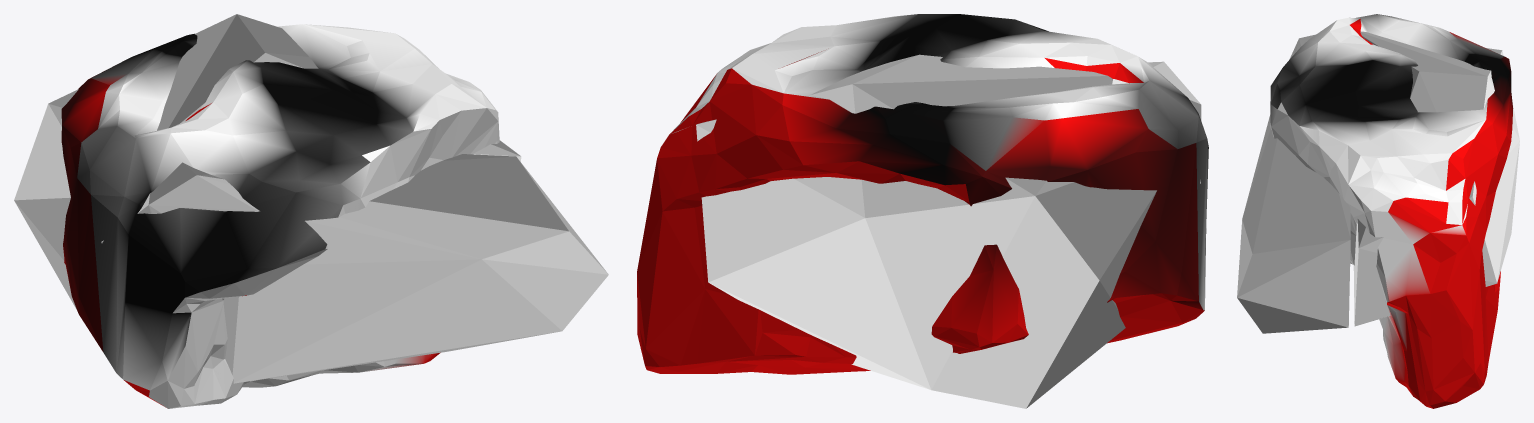
3 views of the same model, side by side, from view 1: azimuth 30°, elevation 25°; view 2: azimuth 150°, elevation 25°; view 3: azimuth 270°, elevation 25° (orthographic). The views are drawn at different scales.
Parts seen in each view (by area): view 1: SM_Rock_10_LOD0, SM_Rock_10_ConvexHulls; view 2: SM_Rock_10_LOD0, SM_Rock_10_ConvexHulls; view 3: SM_Rock_10_LOD0, SM_Rock_10_ConvexHulls.
Boxes of the visible parts, bbox=[...] form: SM_Rock_10_LOD0: bbox=[61, 24, 499, 408]; SM_Rock_10_ConvexHulls: bbox=[14, 14, 608, 383]; SM_Rock_10_LOD0: bbox=[637, 14, 1208, 374]; SM_Rock_10_ConvexHulls: bbox=[696, 54, 1201, 408]; SM_Rock_10_LOD0: bbox=[1270, 14, 1513, 408]; SM_Rock_10_ConvexHulls: bbox=[1237, 31, 1519, 333].
Bounding box in the file's own units: 163 × 119 × 120.
